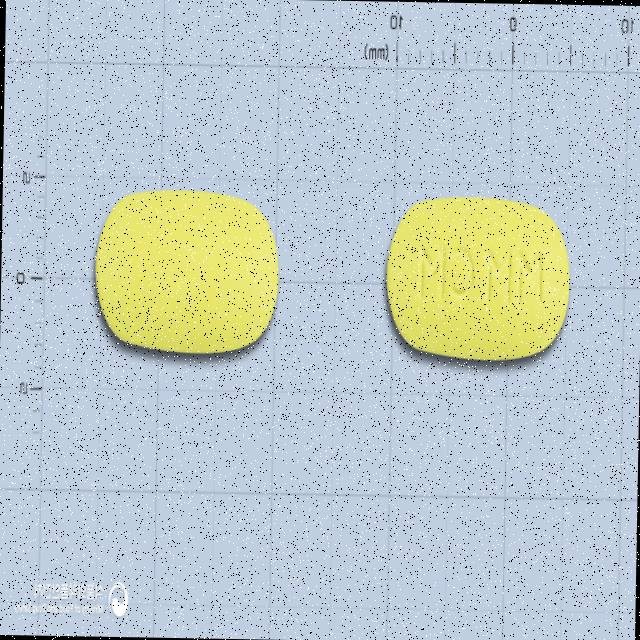Claricin - 250mg: (378, 188, 574, 366), (88, 184, 280, 358)
